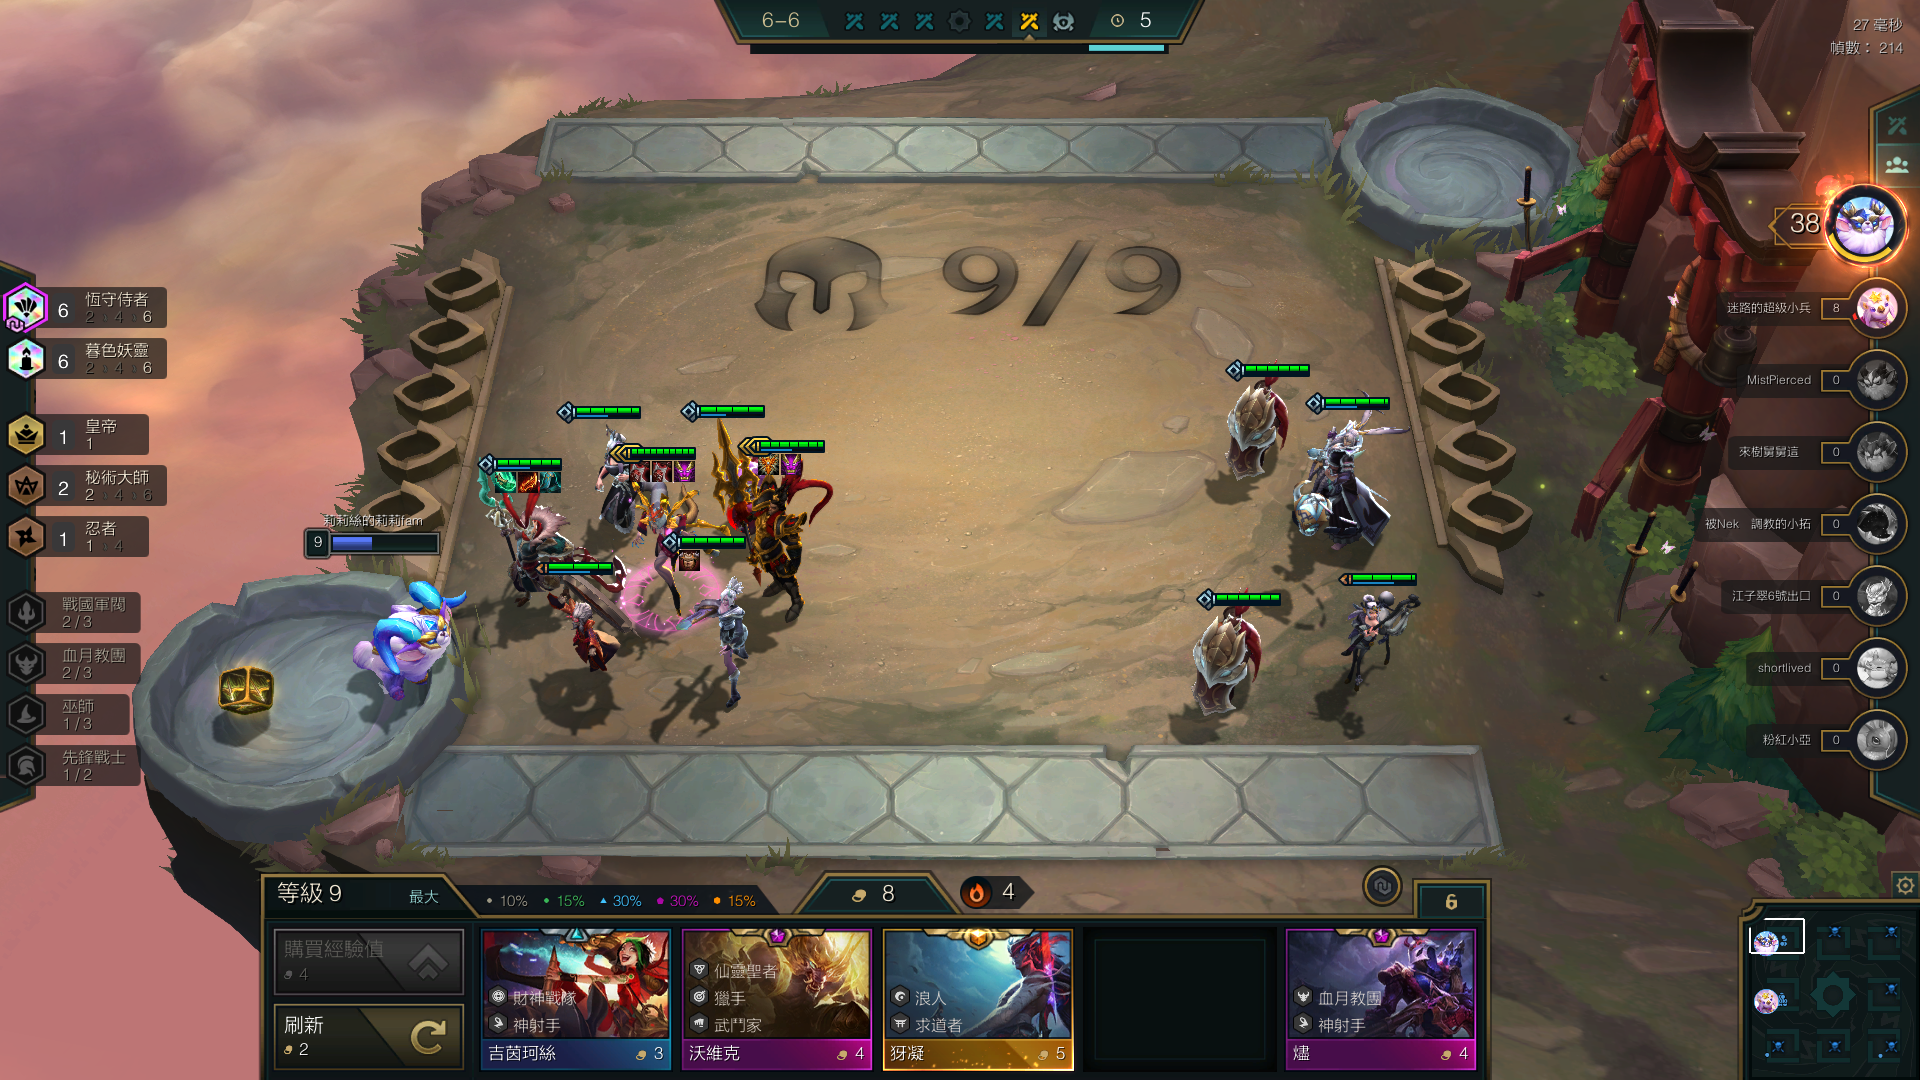1star_lillia: (1320, 560, 1435, 716)
1star_zilean: (525, 551, 640, 705)
2star_azir: (456, 440, 636, 624)
2star_azirsoldier: (1176, 582, 1290, 731), (1204, 352, 1317, 501)
2star_cassiopeia: (547, 389, 711, 559)
2star_kennen: (675, 393, 796, 566)
2star_riven: (647, 524, 773, 733)
2star_thresh: (1284, 378, 1422, 556)
3star_elise: (601, 431, 731, 644)
3star_elise_chosen: (600, 429, 729, 642)
3star_jarvaniv: (713, 429, 841, 637)
item_bramble: (675, 546, 702, 574)
item_dusk: (777, 450, 804, 477), (671, 456, 698, 484)
item_guinsoo: (516, 468, 542, 496)
item_locket: (756, 451, 782, 479)
item_quicksilver: (537, 467, 564, 495)
item_shojin: (492, 467, 520, 495)
item_zeke: (649, 456, 676, 484), (626, 458, 653, 487)
trait_cultist2: (1, 632, 186, 692)
trait_dusk6: (1, 332, 186, 386)
trait_emperor1: (1, 407, 186, 462)
trait_keeper6: (1, 278, 186, 338)
trait_keeper_chosen: (1, 274, 51, 336)
trait_mage1: (1, 682, 186, 742)
trait_mystic2: (1, 458, 186, 512)
trait_ninja1: (1, 506, 186, 560)
trait_vanguard1: (1, 735, 186, 794)
trait_warlord2: (1, 578, 186, 637)
